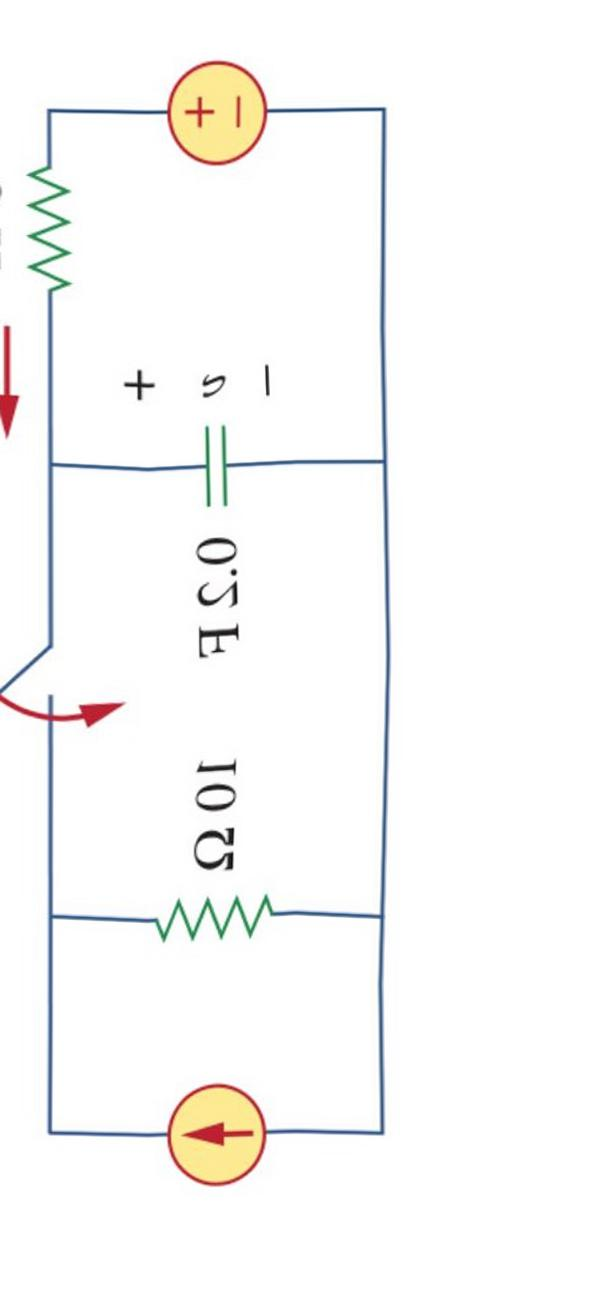Battery: (125, 32, 302, 213)
